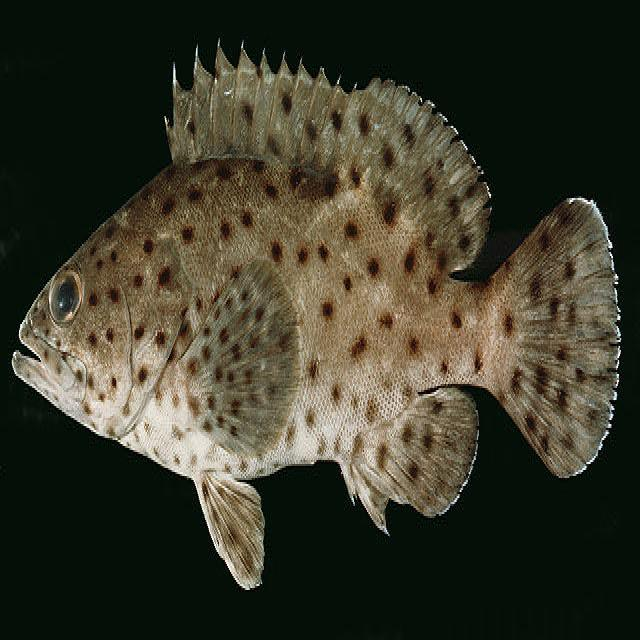ikan: (7, 23, 625, 607)
